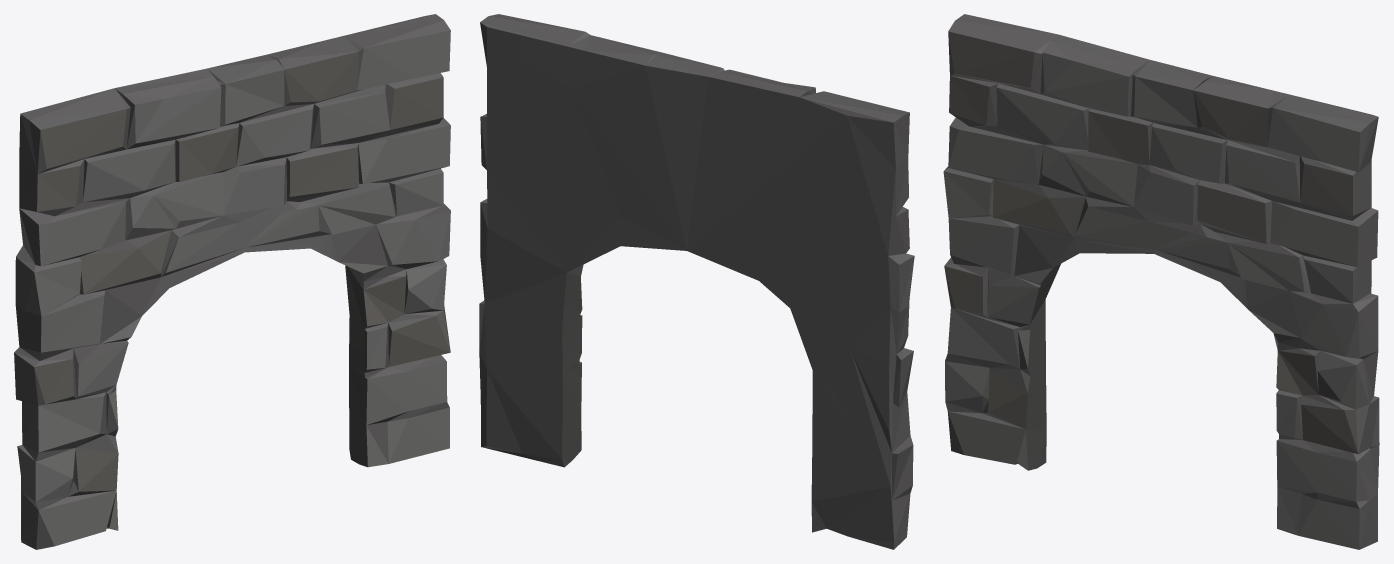
Rendered from SM_Env_Wall_DoorFrame_Double_Round_01.FBX.
3 renders of one model, left to right at view 1: azimuth 30°, elevation 25°; view 2: azimuth 150°, elevation 25°; view 3: azimuth 330°, elevation 25°, orthographic.
Visible parts, largest first — view 1: SM_Env_Wall_DoorFrame_Double_Round_01; view 2: SM_Env_Wall_DoorFrame_Double_Round_01; view 3: SM_Env_Wall_DoorFrame_Double_Round_01.
Boxes of the visible parts, left/top/right/bottom form: SM_Env_Wall_DoorFrame_Double_Round_01: left=14, top=14, right=450, bottom=549; SM_Env_Wall_DoorFrame_Double_Round_01: left=479, top=14, right=914, bottom=549; SM_Env_Wall_DoorFrame_Double_Round_01: left=943, top=14, right=1379, bottom=549.
Size of what is drawn, in the model's own units: 518 by 42.95 by 507.
